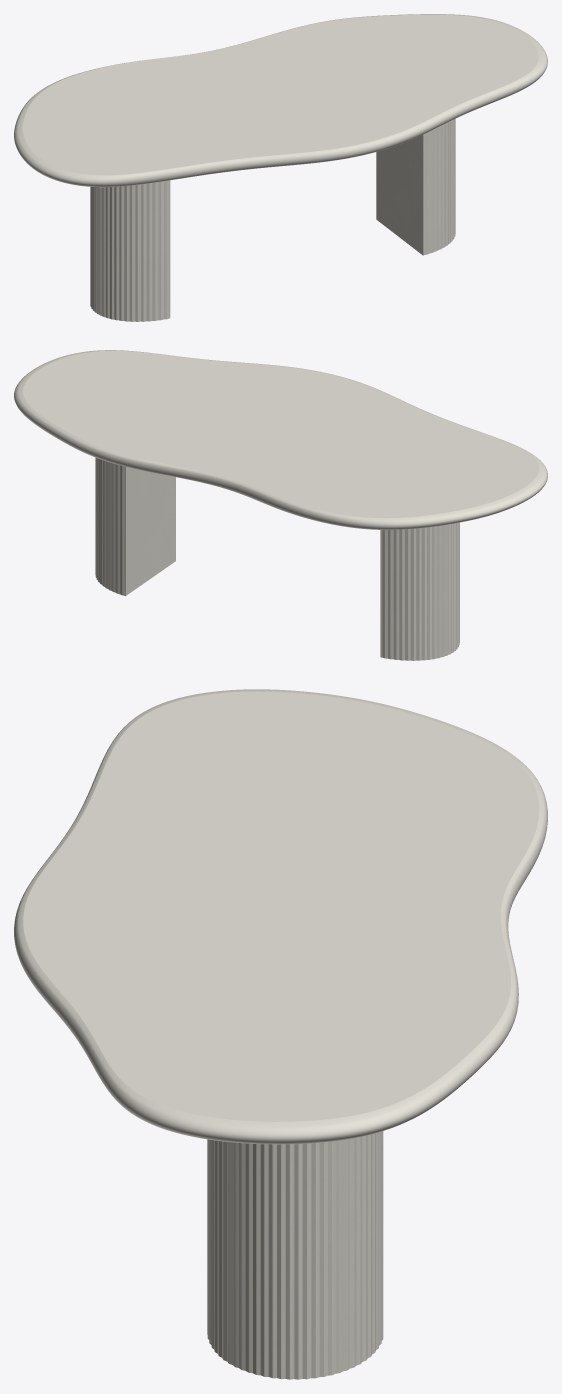
Rendered from pale_toplast_round_flute.glb.
The picture shows the model from 3 angles, top to bottom: view 1: azimuth 30°, elevation 25°; view 2: azimuth 150°, elevation 25°; view 3: azimuth 270°, elevation 25°; orthographic projection. The views are drawn at different scales.
Parts seen in each view (by area): view 1: round_toplast, flute; view 2: round_toplast, flute; view 3: round_toplast, flute.
Part boxes in pixels (left/top/right/bottom): round_toplast: left=14, top=14, right=547, bottom=187; flute: left=90, top=118, right=455, bottom=321; round_toplast: left=14, top=350, right=547, bottom=529; flute: left=95, top=457, right=459, bottom=660; round_toplast: left=14, top=689, right=547, bottom=1144; flute: left=207, top=1131, right=383, bottom=1379.
Bounding box in the file's own units: 7.5 × 2.5 × 3.8.
Materials: 1 (1 with a texture image).
